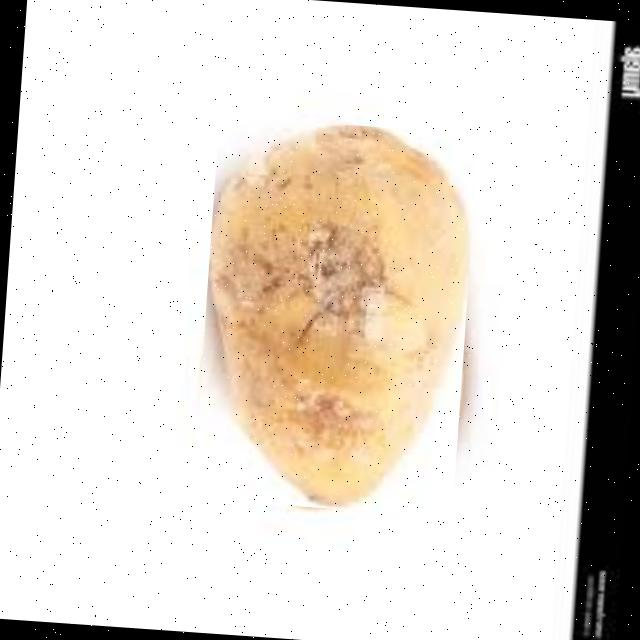Diseased-fungal potato: (192, 114, 478, 516)
